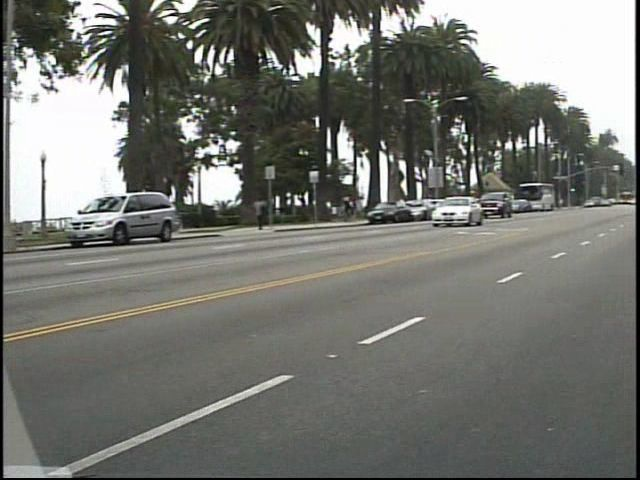person: (257, 191, 279, 230), (345, 188, 365, 223)
